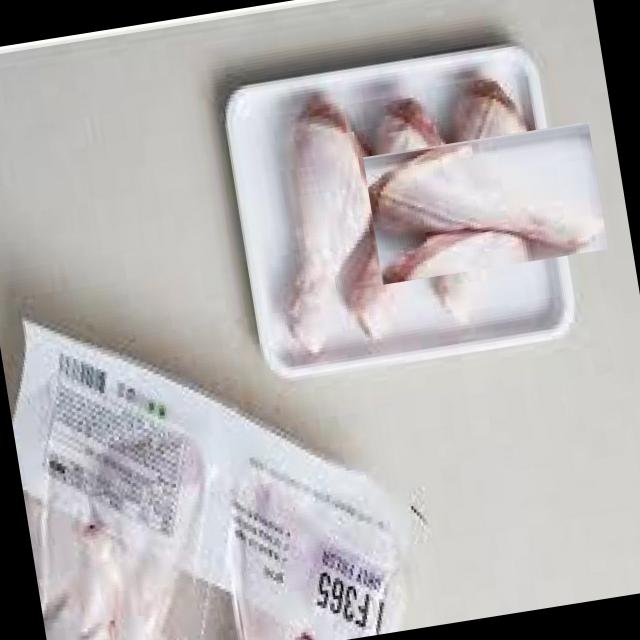chicken: (383, 101, 588, 306), (323, 89, 478, 339), (254, 81, 394, 352)
